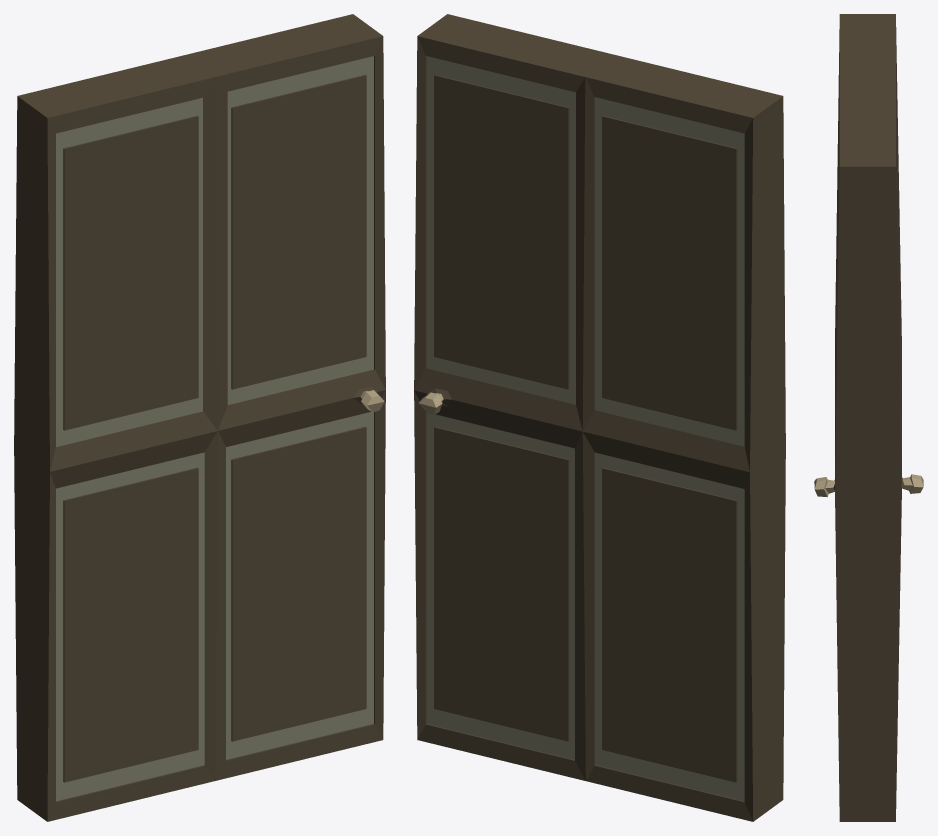
The model's file is door.fbx.
3 renders of one model, left to right at view 1: azimuth 30°, elevation 25°; view 2: azimuth 150°, elevation 25°; view 3: azimuth 270°, elevation 25°, orthographic. The views are drawn at different scales.
Parts seen in each view (by area): view 1: Door; view 2: Door; view 3: Door.
Boxes of the visible parts, <box> form: Door: <box>14,14,385,821</box>; Door: <box>414,14,785,821</box>; Door: <box>814,14,923,821</box>.
Size of the model in its own units: 98.79 by 198 by 29.85.
